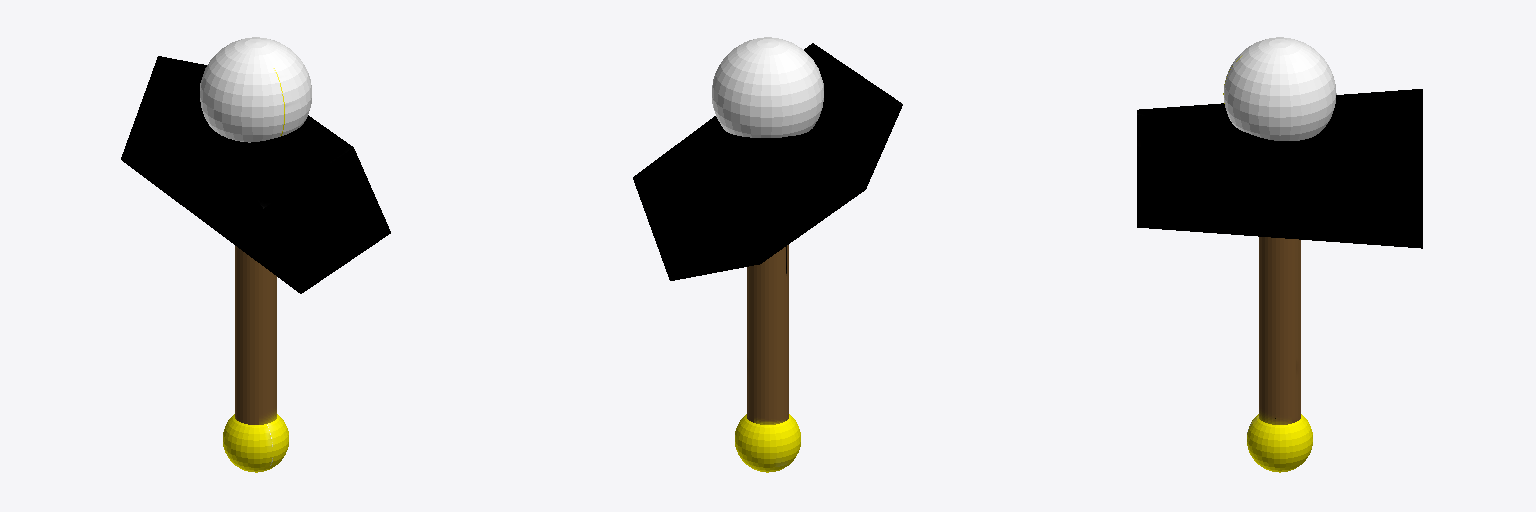
3 views of the same model, side by side, from view 1: azimuth 30°, elevation 25°; view 2: azimuth 150°, elevation 25°; view 3: azimuth 270°, elevation 25° (orthographic).
Parts seen in each view (by area): view 1: 円柱; view 2: 円柱; view 3: 円柱.
Part boxes in pixels (left/top/right/bottom): 円柱: left=121, top=37, right=390, bottom=472; 円柱: left=633, top=37, right=902, bottom=472; 円柱: left=1137, top=37, right=1422, bottom=472.
Bounding box in the file's own units: 2.61 × 8.32 × 5.05.
Materials: 1 (1 with a texture image).